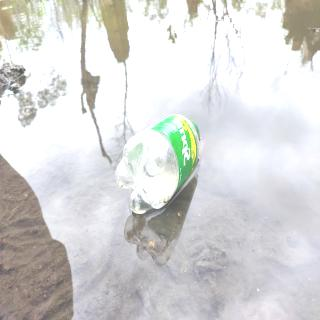bottle: (113, 110, 203, 220)
